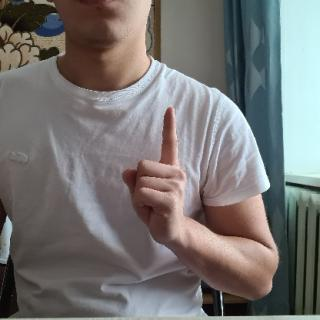RAA: (119, 101, 197, 253)
